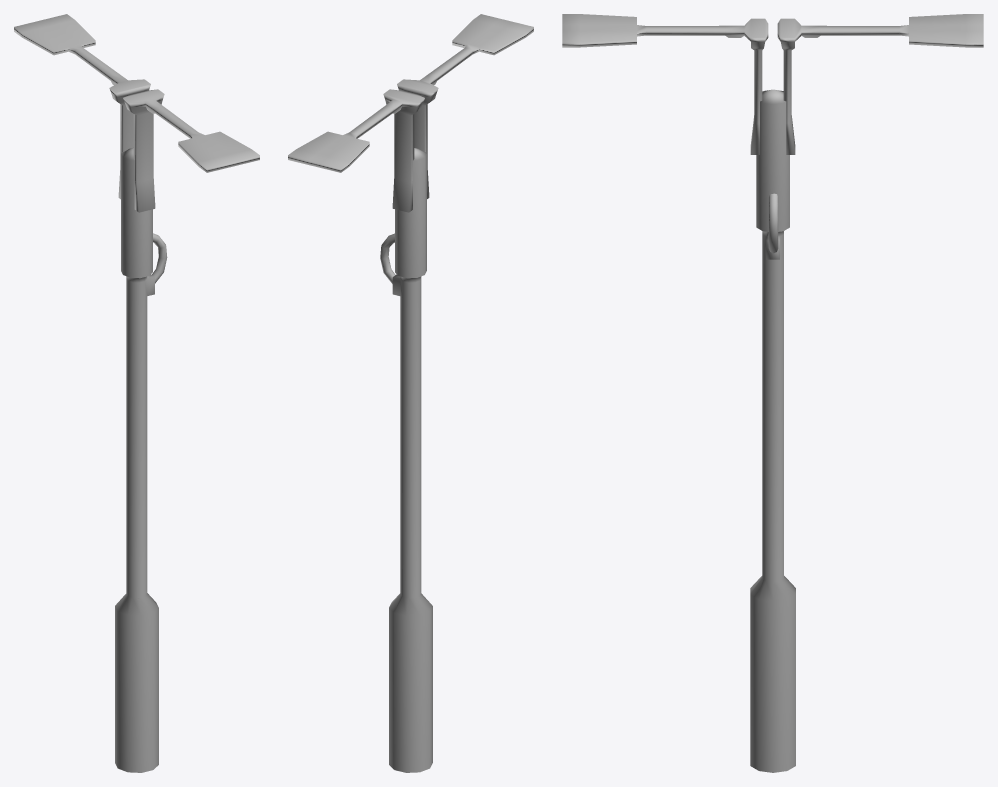
The model's file is poste_de_luz.glb.
3 views of the same model, side by side, from view 1: azimuth 30°, elevation 25°; view 2: azimuth 150°, elevation 25°; view 3: azimuth 270°, elevation 25° (orthographic). The views are drawn at different scales.
Visible parts, largest first — view 1: base_low, focos_low; view 2: base_low, focos_low, tubo_low; view 3: base_low, focos_low.
Part boxes in pixels (x1=…): base_low: x1=115, y1=148, x2=158, y2=772; focos_low: x1=14, y1=14, x2=259, y2=212; base_low: x1=389, y1=148, x2=432, y2=772; focos_low: x1=288, y1=14, x2=533, y2=212; tubo_low: x1=380, y1=233, x2=395, y2=283; base_low: x1=750, y1=89, x2=795, y2=772; focos_low: x1=562, y1=14, x2=983, y2=154.
Size of the model in its own units: 0.00354 by 0.0403 by 0.0209.
Materials: 1 (1 with a texture image).
